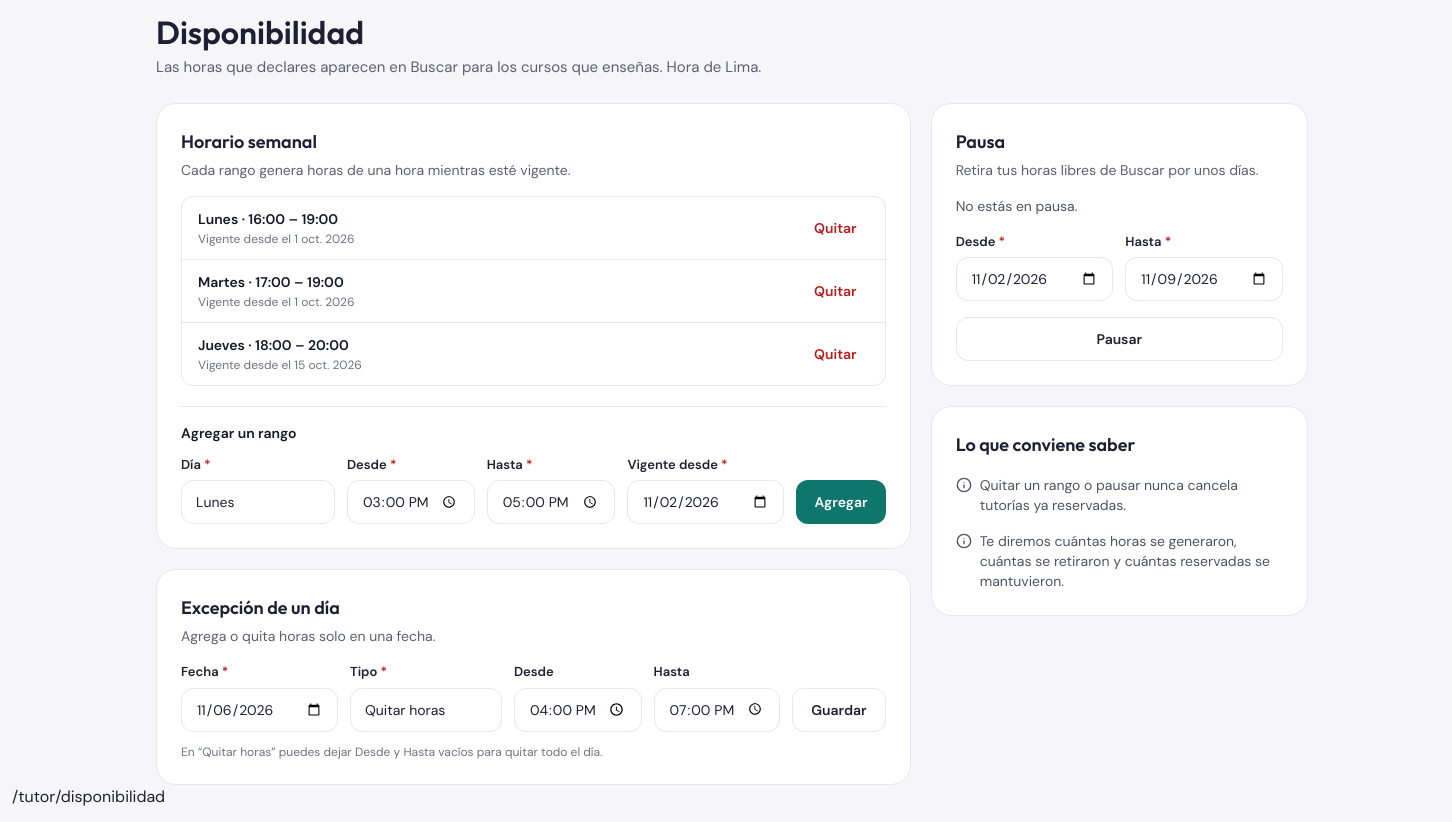
Scenario: FE-40 tutor availability › declares a range, reports generated hours and shows it after the GET refresh
The image size is (1452, 822).
Select "Miércoles" in the dropdown labelled "Día *" at (258, 502), box [181, 480, 335, 524]
Clear the time field labelled "Desde *" at (411, 502), box [347, 480, 475, 524]
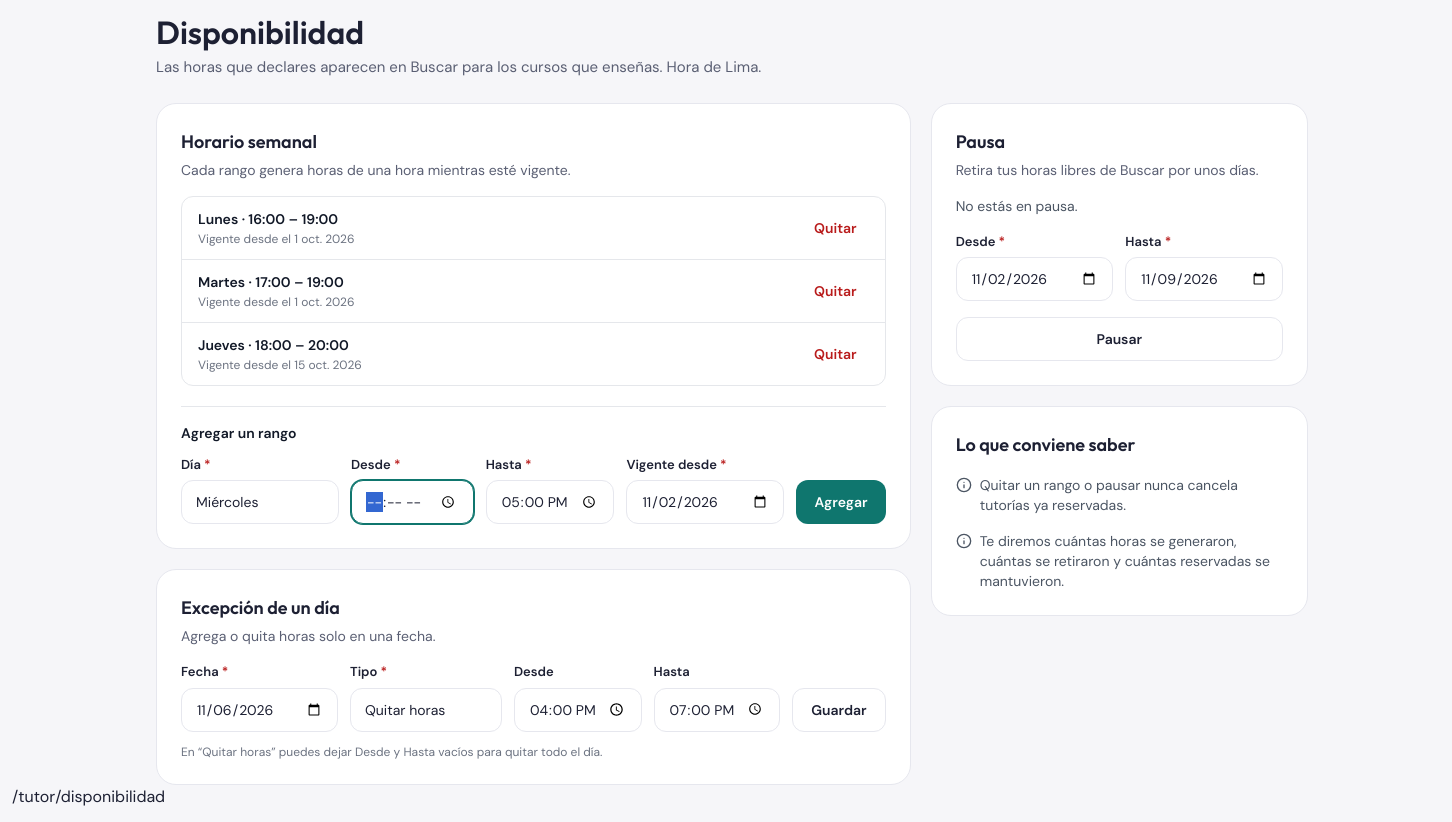
Type "15:00" into the time field labelled "Desde *" at (412, 502), box [351, 480, 474, 524]
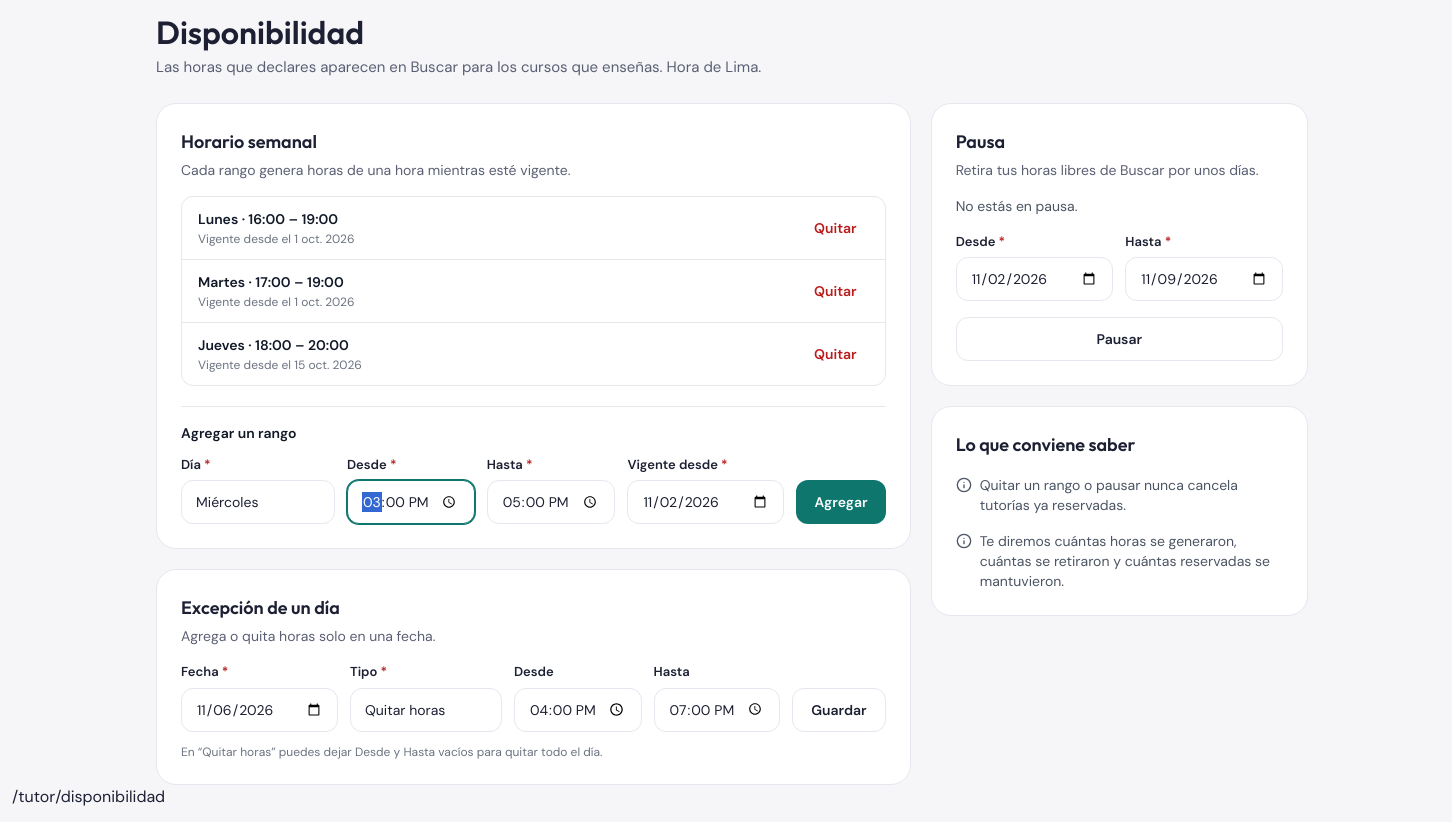
Clear the time field labelled "Hasta *" at (551, 502), box [487, 480, 615, 524]
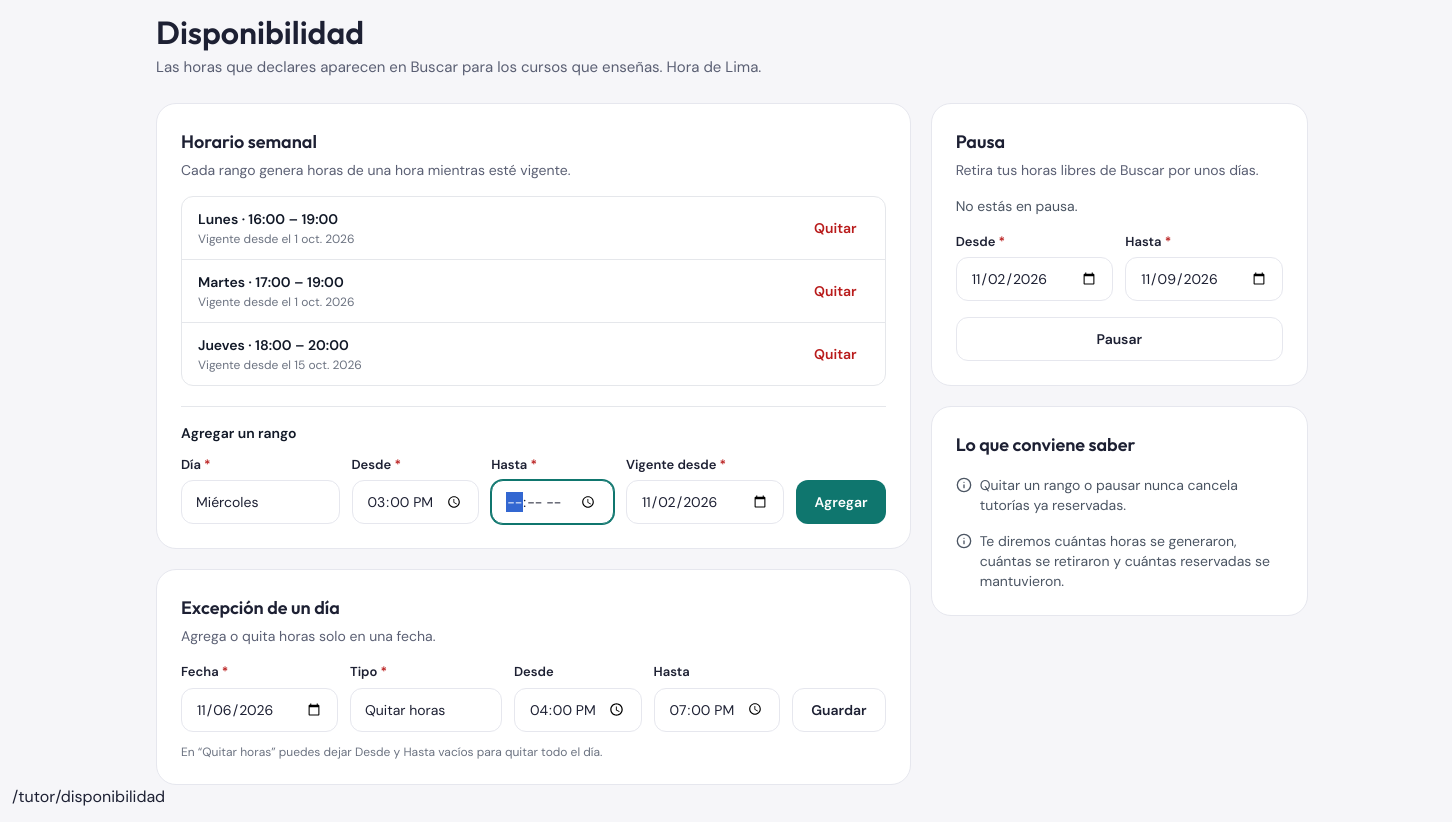
Type "17:00" into the time field labelled "Hasta *" at (553, 502), box [491, 480, 614, 524]
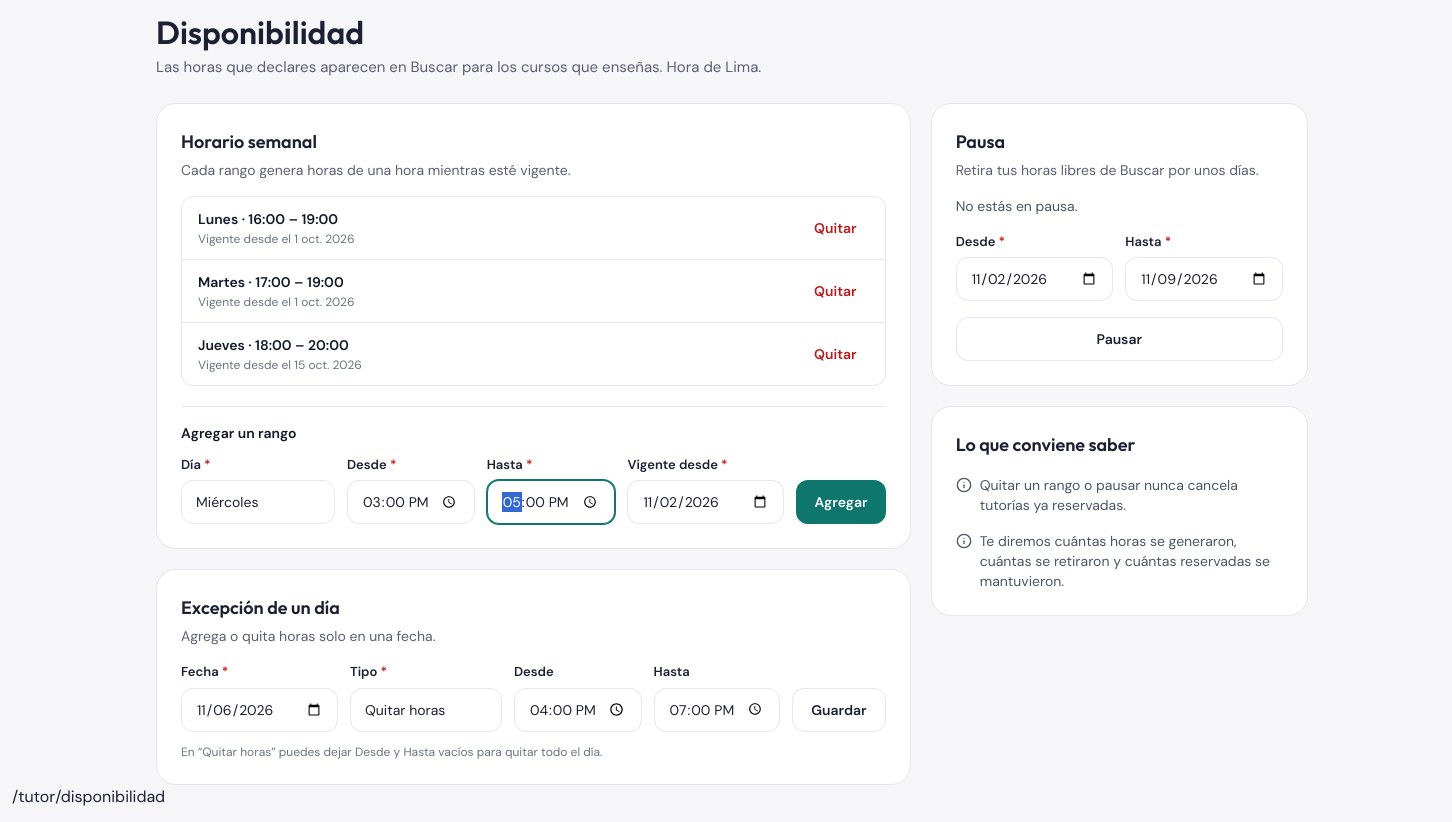
Type "2026-10-26" into the date field labelled "Vigente desde *" at (706, 502), box [627, 480, 784, 524]
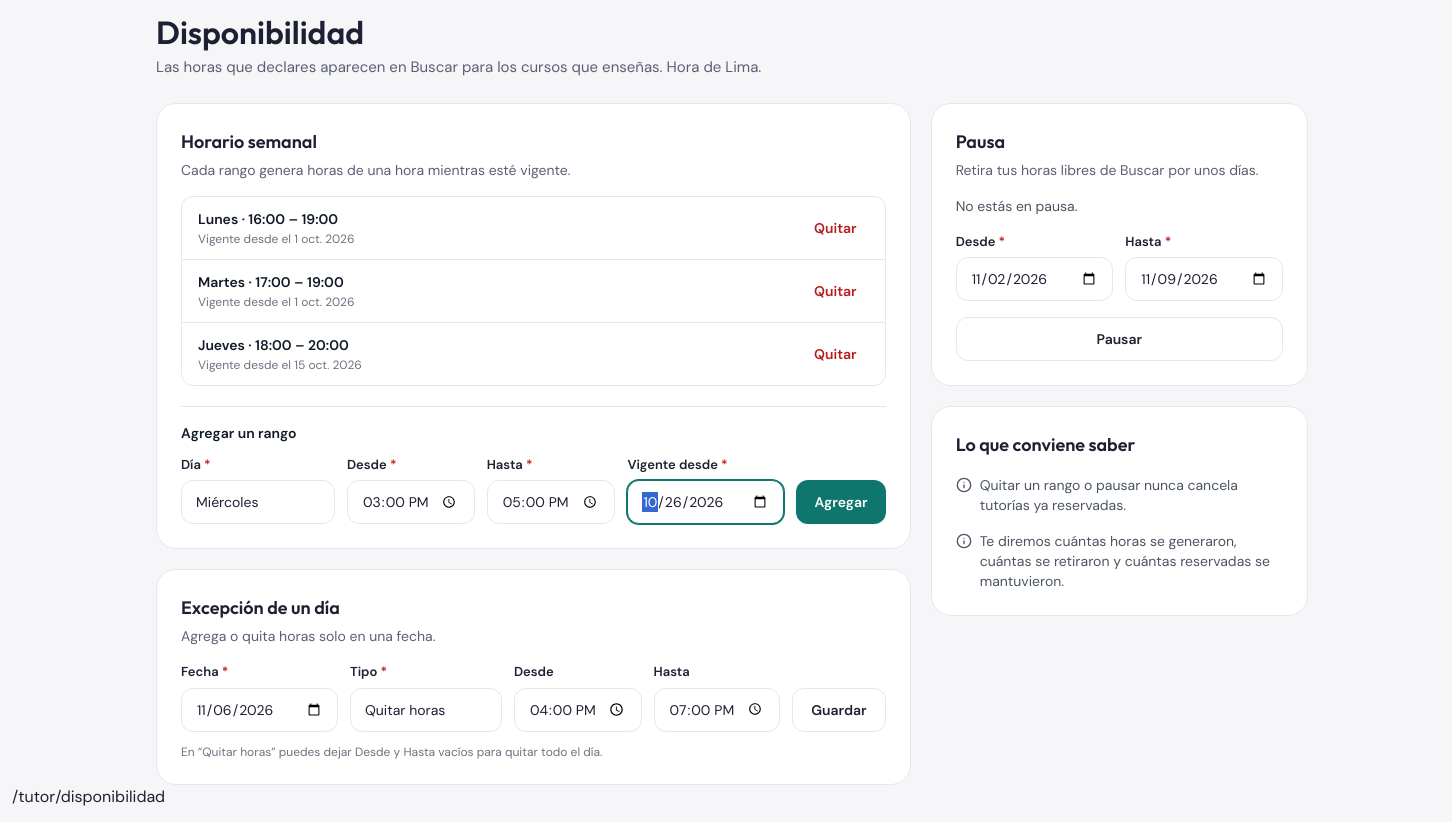
Click the button "Agregar" at (841, 502), box [796, 480, 886, 524]
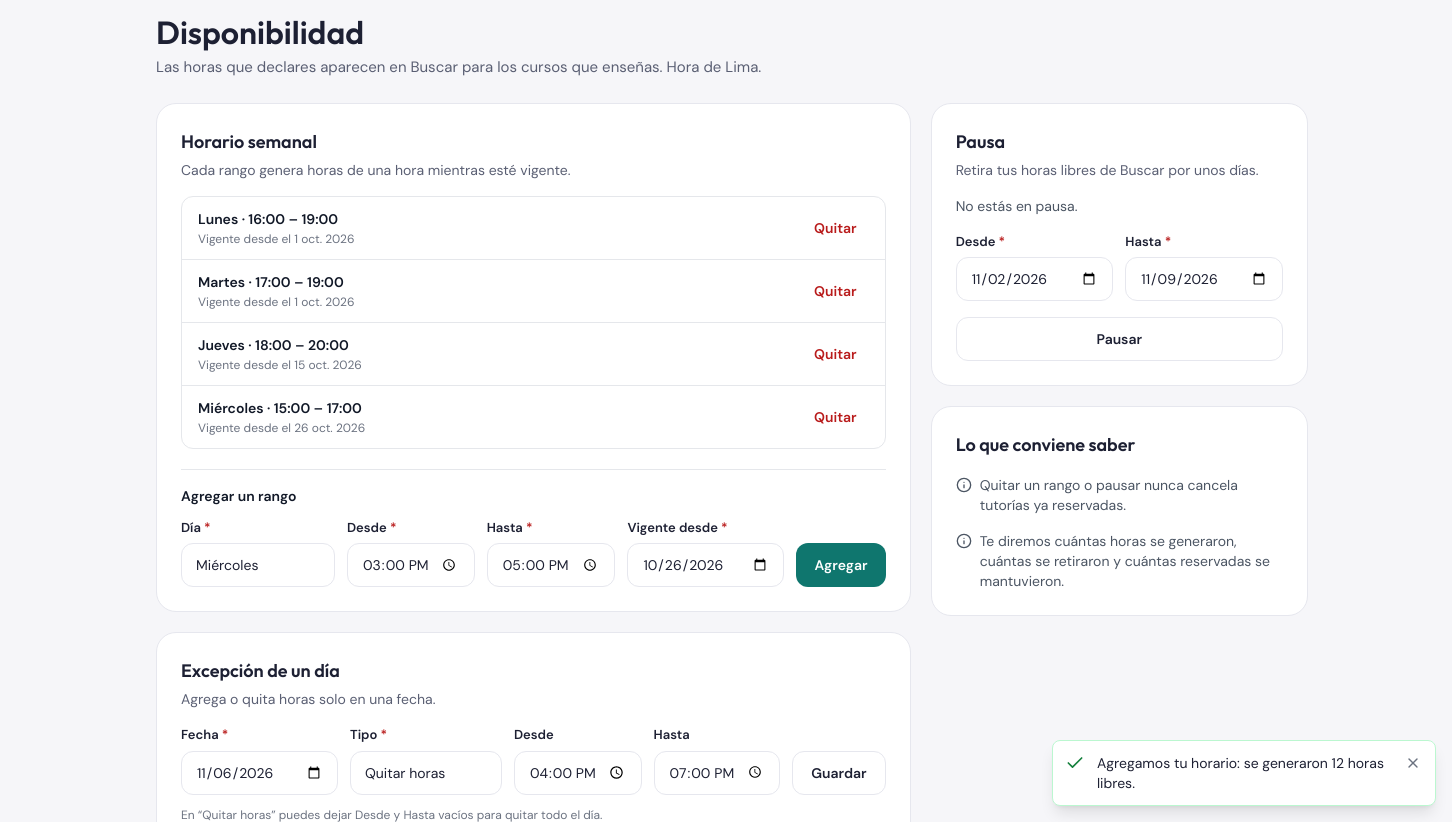
Now the text "Agregamos tu horario: se generaron 12 horas libres." is shown, box [1097, 753, 1391, 793]
Now the text "Miércoles · 15:00 – 17:00" is shown, box [198, 398, 365, 418]
